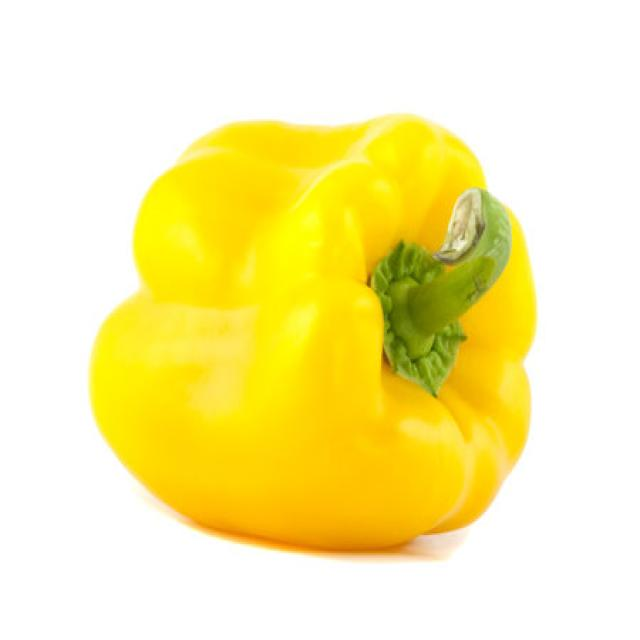Bottle Gourd: (88, 116, 538, 557)
